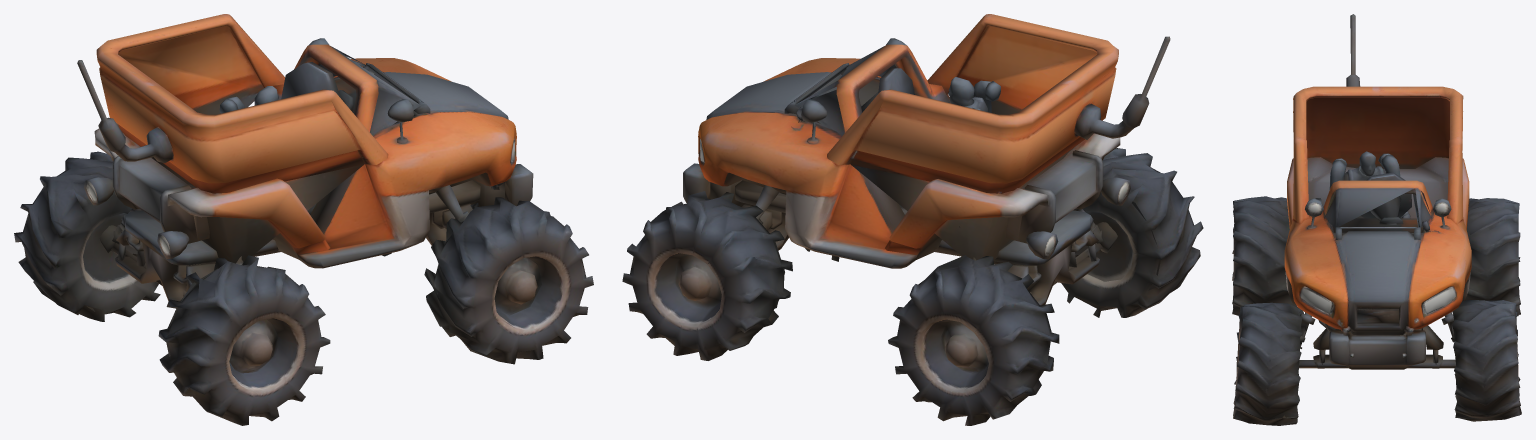
The model's file is rival-rover.glb.
The picture shows the model from 3 angles, left to right: view 1: azimuth 30°, elevation 25°; view 2: azimuth 150°, elevation 25°; view 3: azimuth 270°, elevation 25°; orthographic projection. The views are drawn at different scales.
Parts seen in each view (by area): view 1: tripo_node_36cb77d1-85c1-4c6e-8616-f4edf160ae2c; view 2: tripo_node_36cb77d1-85c1-4c6e-8616-f4edf160ae2c; view 3: tripo_node_36cb77d1-85c1-4c6e-8616-f4edf160ae2c.
Part boxes in pixels (x1,y1,x2,y2): tripo_node_36cb77d1-85c1-4c6e-8616-f4edf160ae2c: (14, 14, 593, 425); tripo_node_36cb77d1-85c1-4c6e-8616-f4edf160ae2c: (622, 14, 1203, 425); tripo_node_36cb77d1-85c1-4c6e-8616-f4edf160ae2c: (1232, 14, 1521, 425).
Bounding box in the file's own units: 0.998 × 0.7402 × 0.7324.
Materials: 1 (1 with a texture image).
